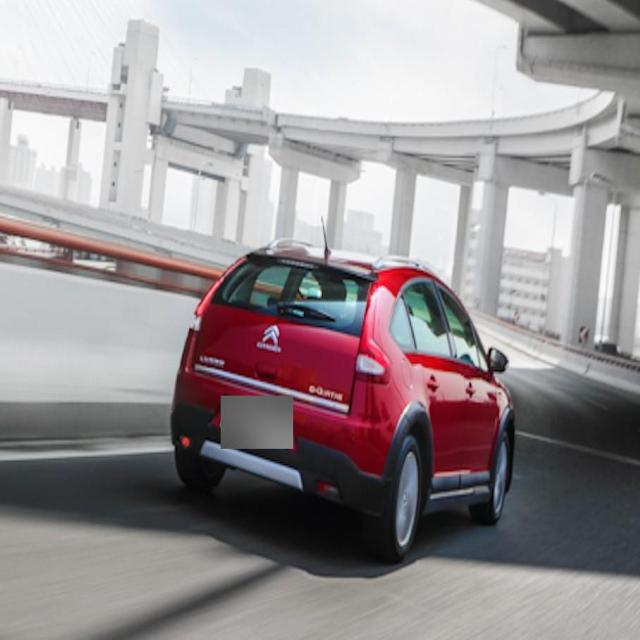back_glass: (210, 253, 373, 339)
back_left_side_light: (188, 254, 248, 330)
back_right_side_light: (353, 278, 393, 388)
front_right_side_door: (434, 276, 496, 489)
front_right_side_mirror: (486, 346, 511, 378)
rear_bumper: (169, 369, 386, 515)
wheel: (374, 440, 423, 561), (475, 430, 510, 522)
